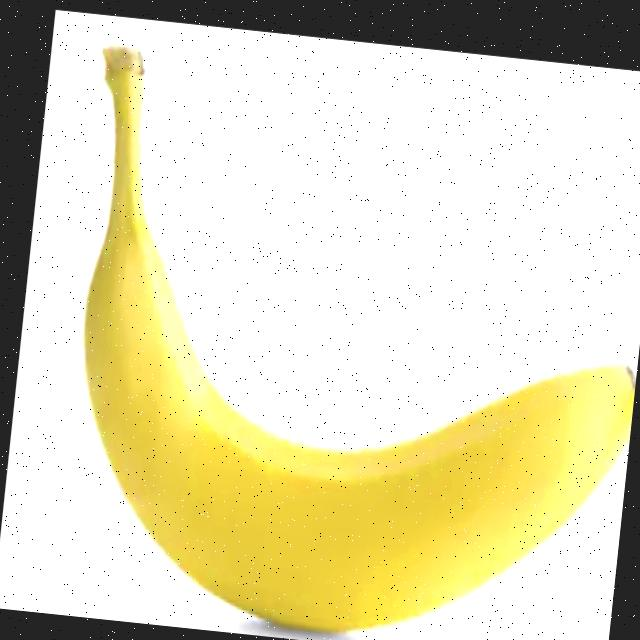Ripe: (25, 23, 640, 640)
